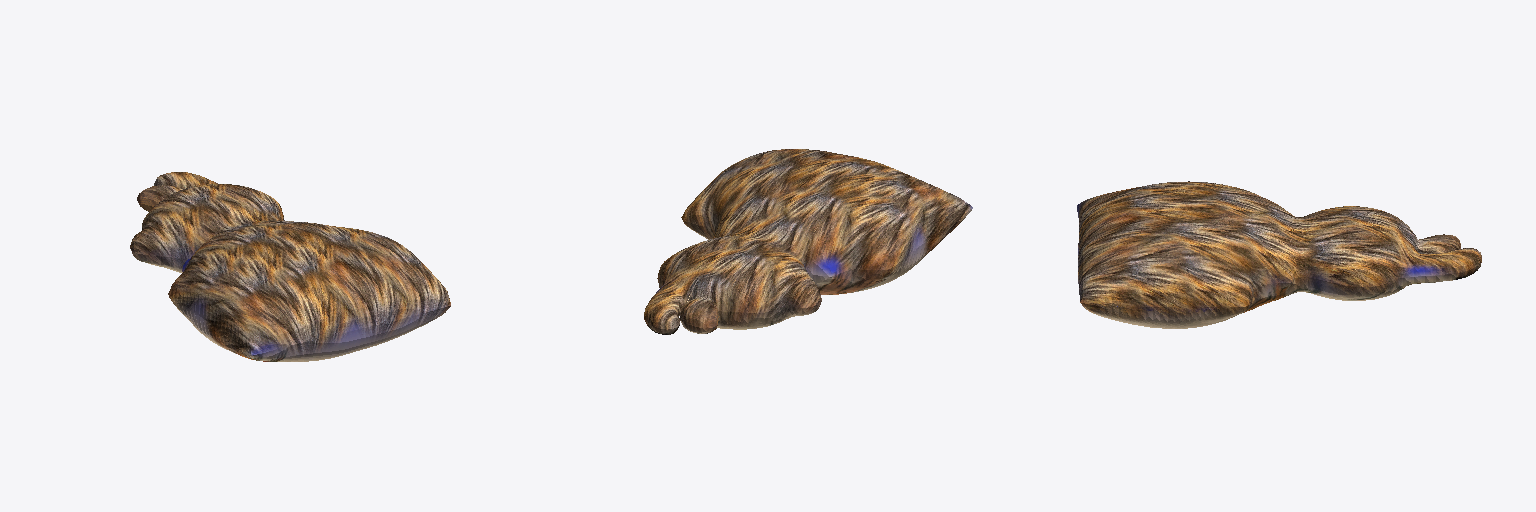
The picture shows the model from 3 angles: view 1: azimuth 30°, elevation 25°; view 2: azimuth 150°, elevation 25°; view 3: azimuth 270°, elevation 25°; orthographic projection.
Parts seen in each view (by area): view 1: Object.1; view 2: Object.1; view 3: Object.1.
Boxes of the visible parts, x1=… form: Object.1: x1=130, y1=172, x2=450, y2=361; Object.1: x1=644, y1=149, x2=972, y2=334; Object.1: x1=1077, y1=181, x2=1481, y2=328.
Size of the model in its own units: 0.2091 by 0.09 by 0.3476.
1 materials, 1 textured.